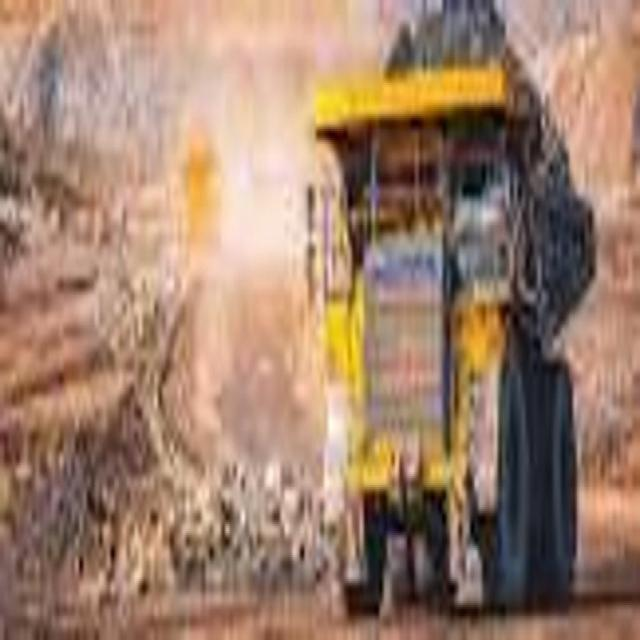dump_truck: (307, 0, 599, 639)
